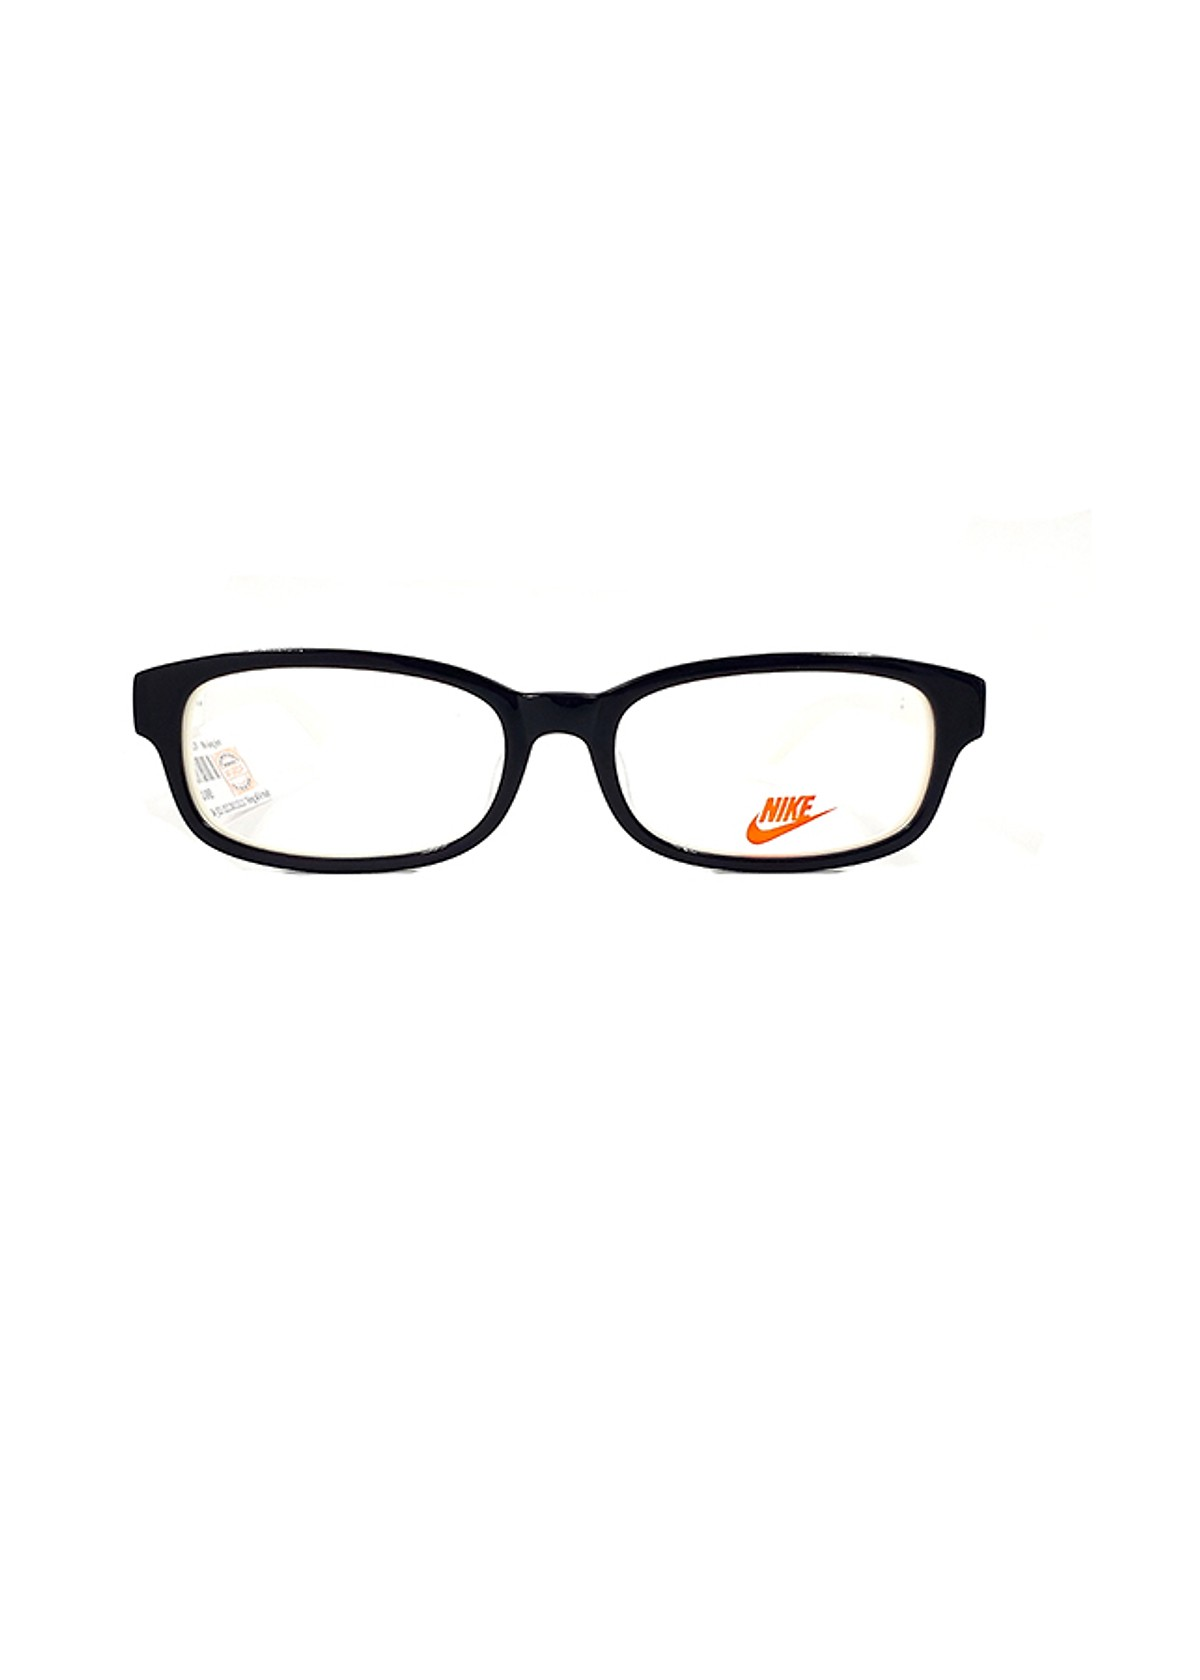Nike: (699, 717, 945, 898)
